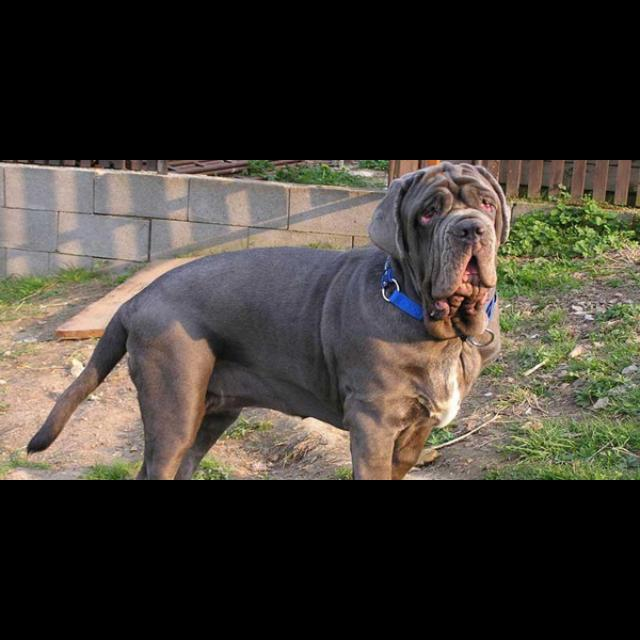mastino_napoletano: (27, 163, 512, 480)
